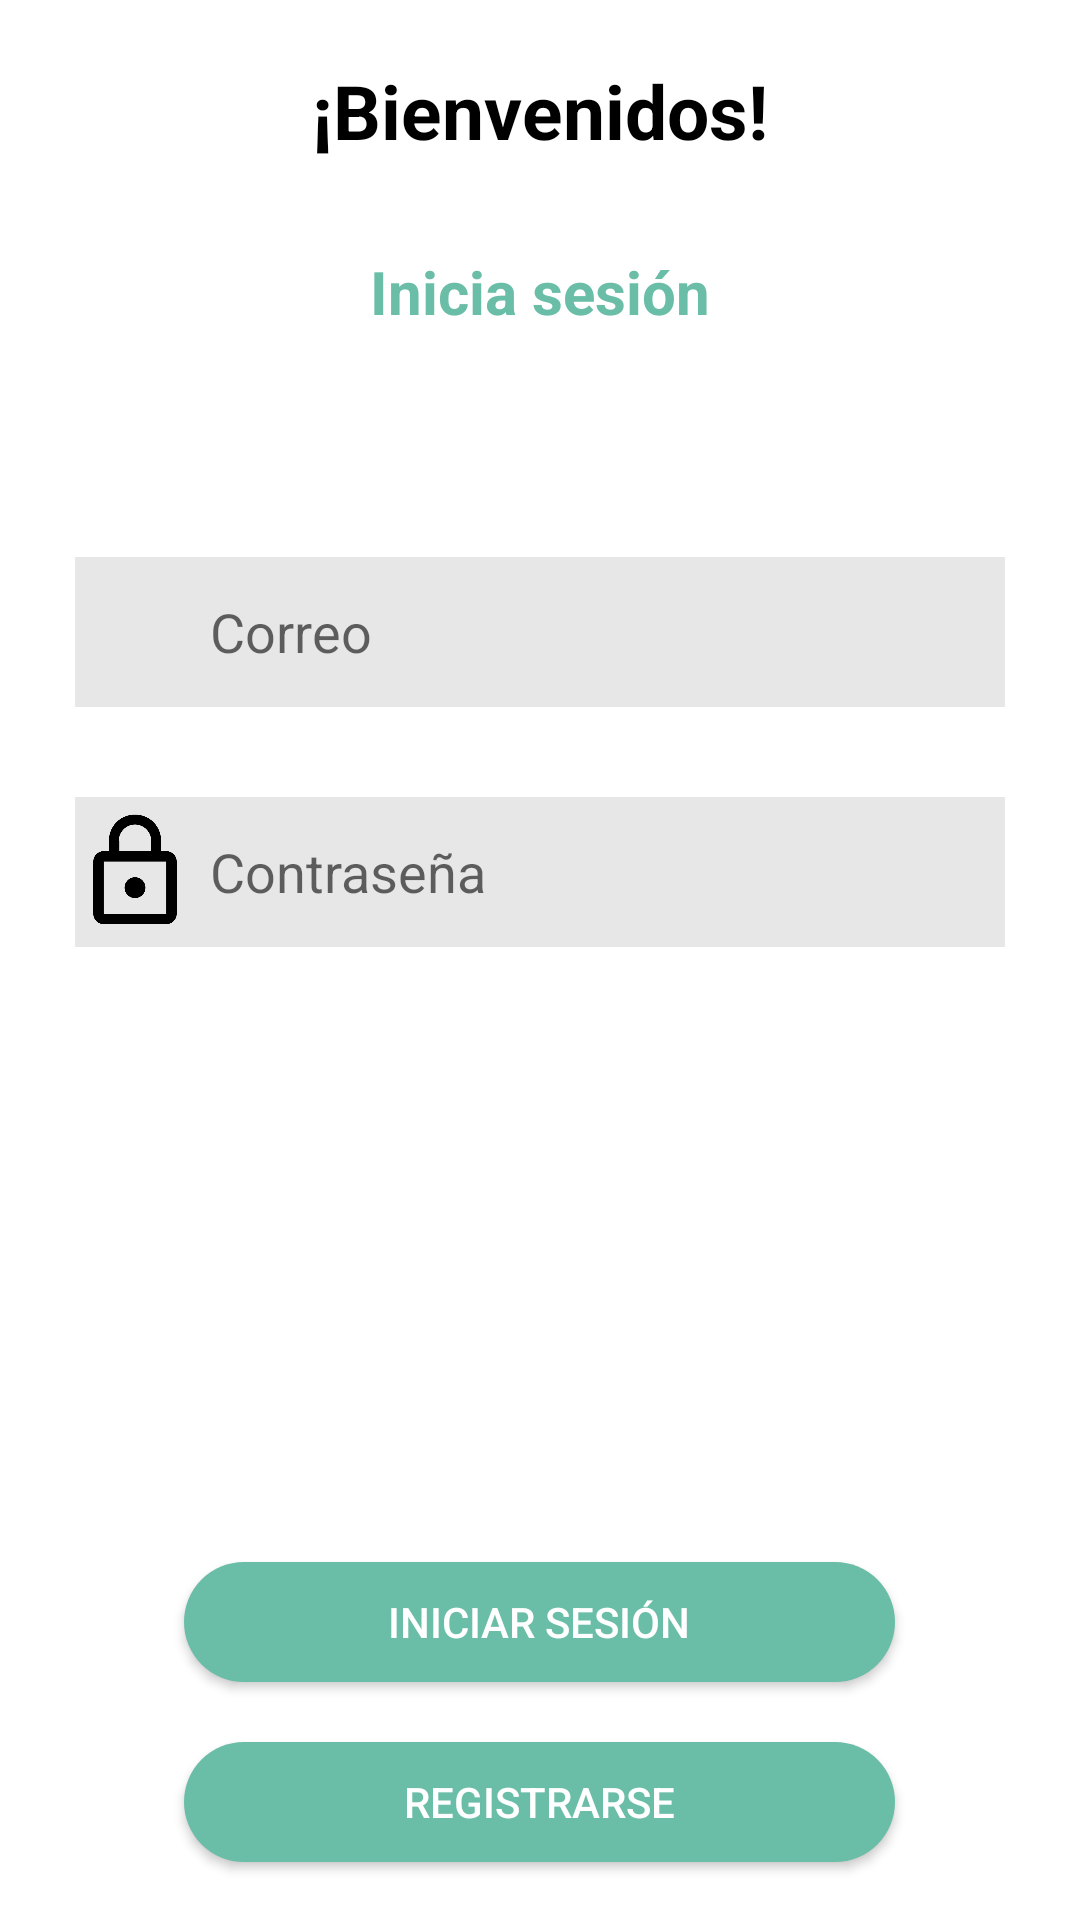

Icons on this 1080px×1920px Android screen, each with its box as (x1, y1, x2, y2):
de cadenas securite noir: (93, 814, 177, 924)
